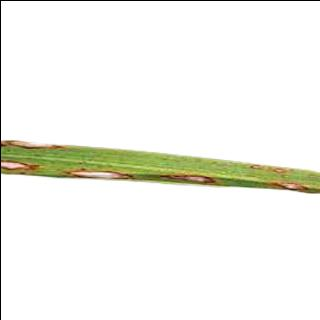Blast: (66, 162, 136, 185), (264, 174, 318, 197), (165, 168, 222, 188), (0, 156, 40, 177)
